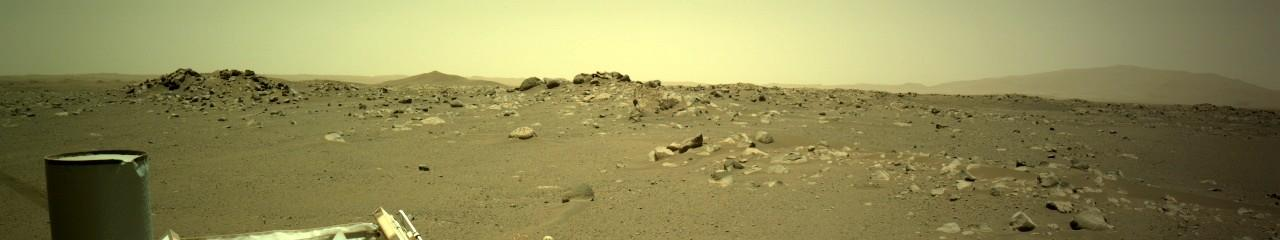bedrock: (690, 132, 1258, 235), (745, 95, 1271, 173), (227, 84, 583, 125), (6, 77, 176, 129), (1260, 218, 1273, 236)
big_rock: (49, 27, 1261, 107), (180, 114, 215, 117)
soil: (8, 127, 1259, 239), (1259, 174, 1269, 217), (1272, 117, 1276, 220)
